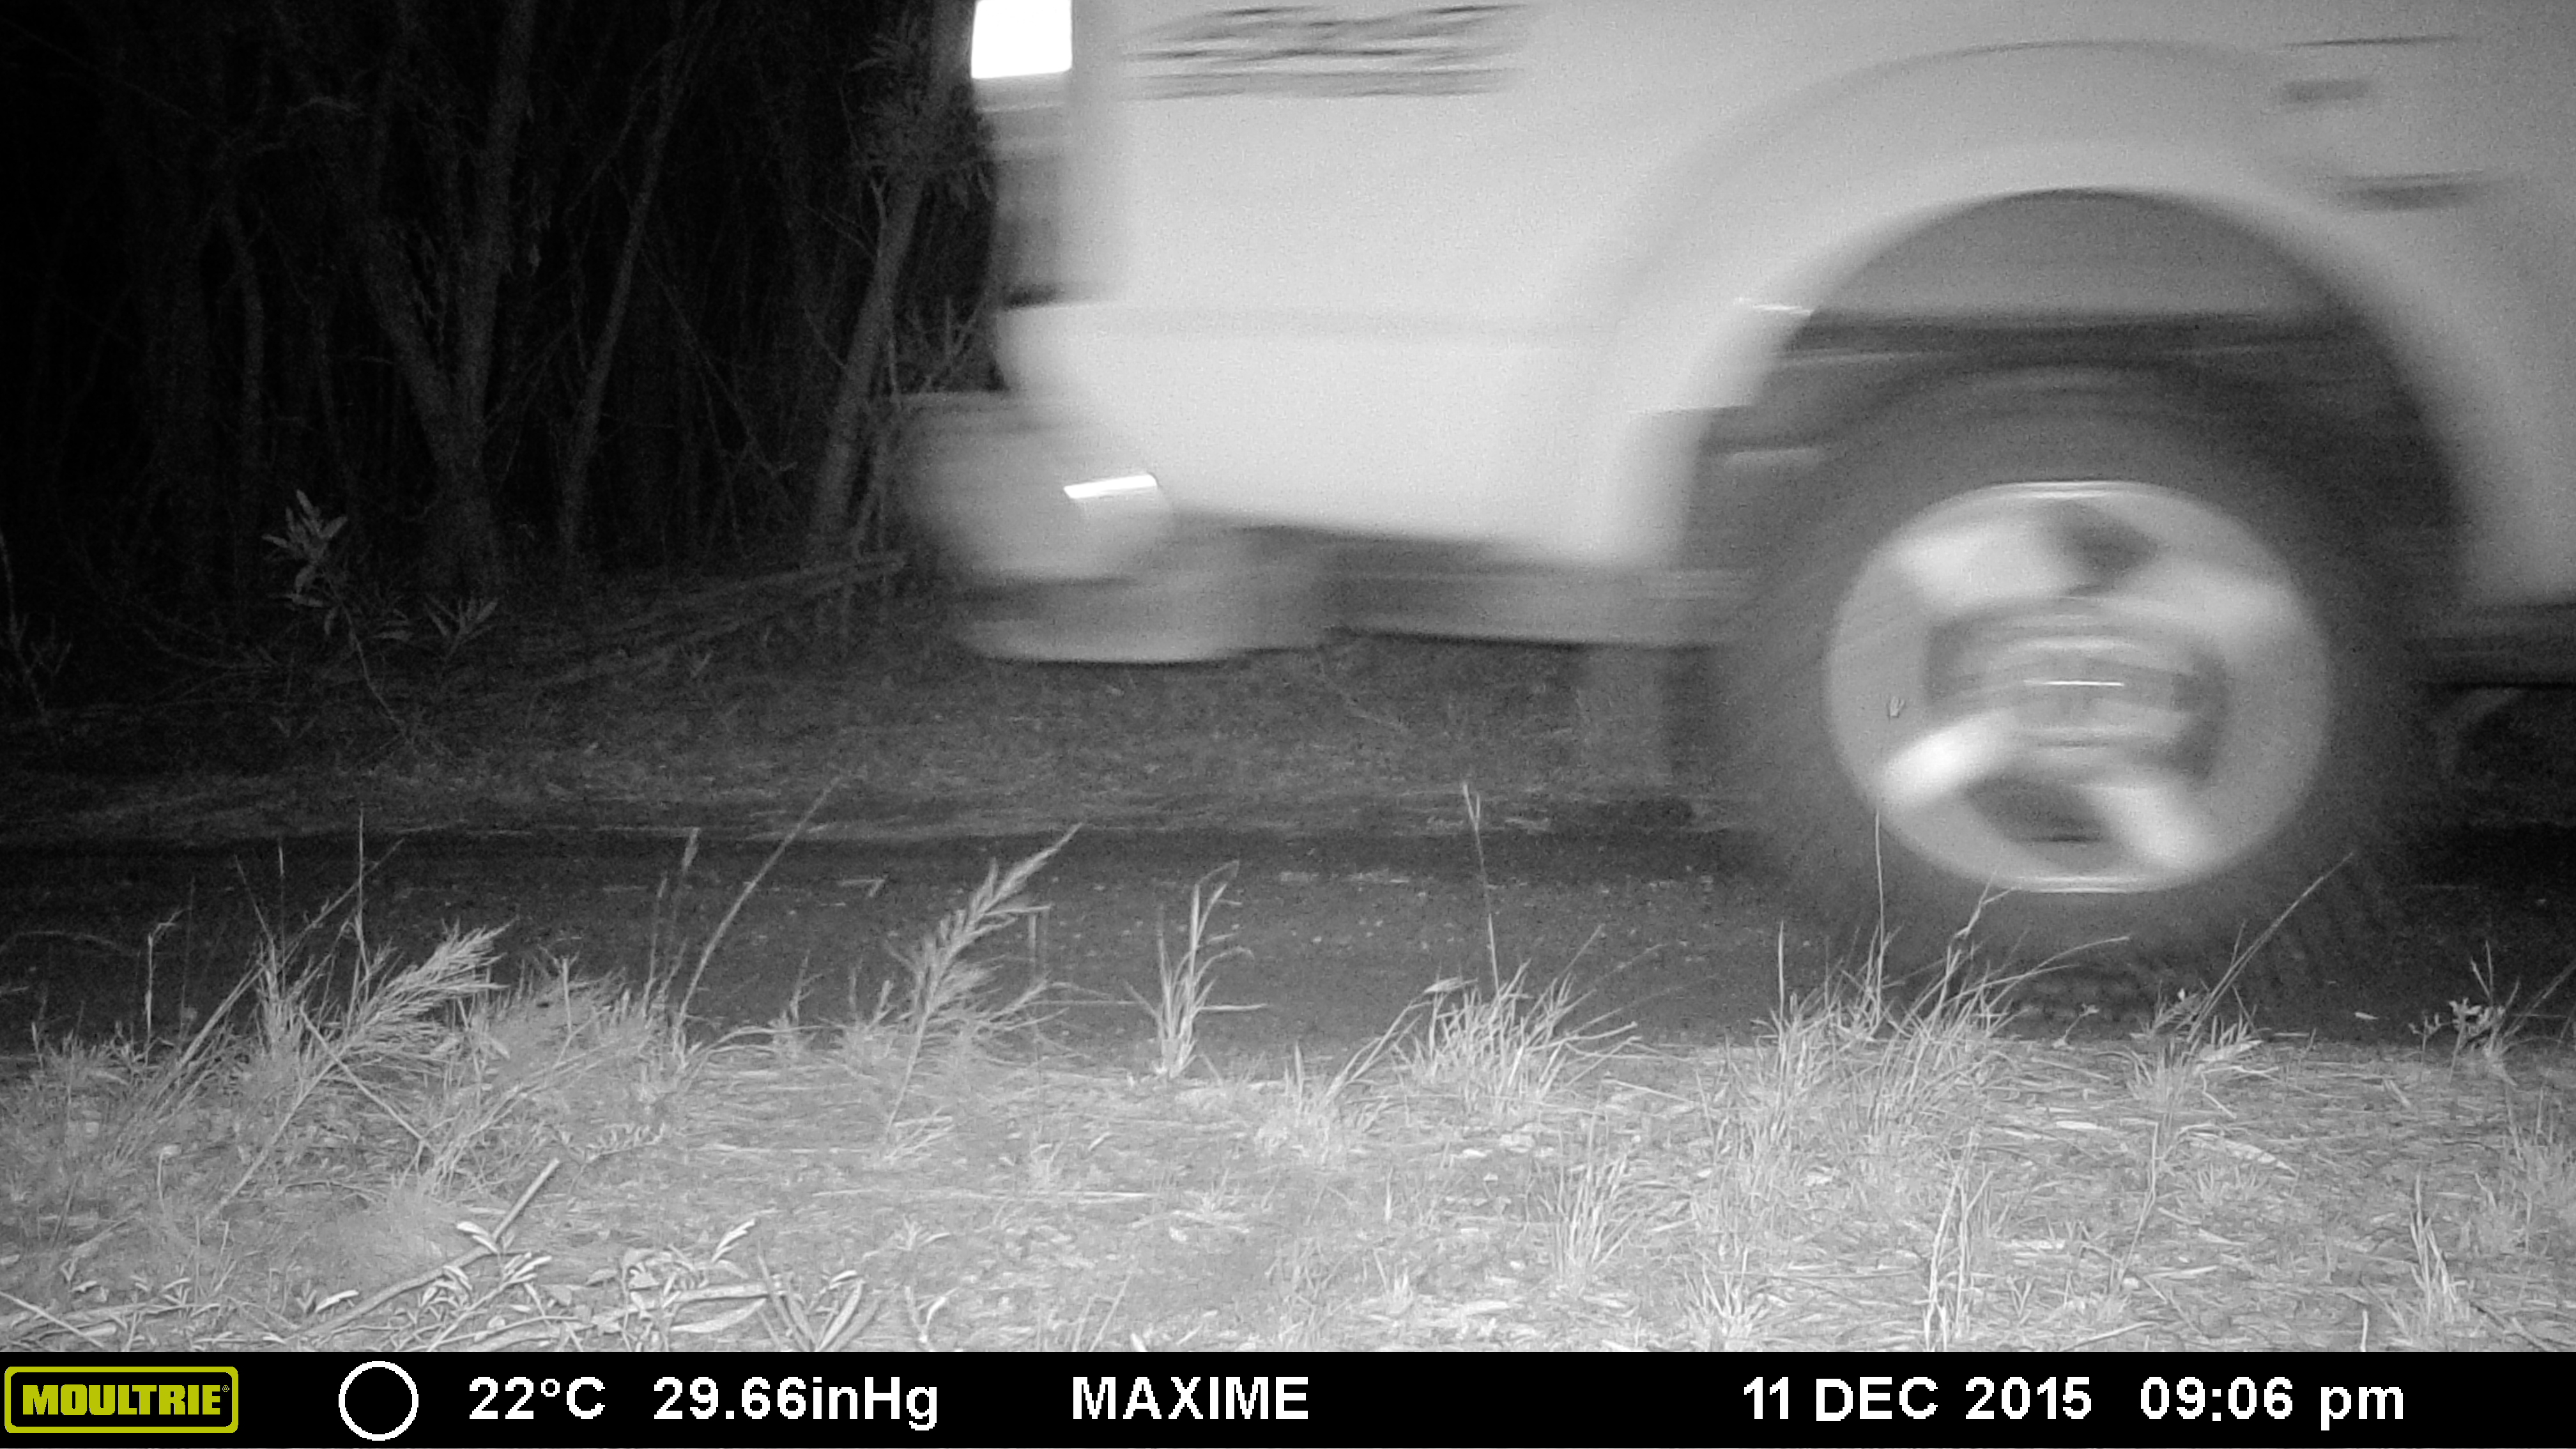Car: (872, 2, 2571, 1044)
